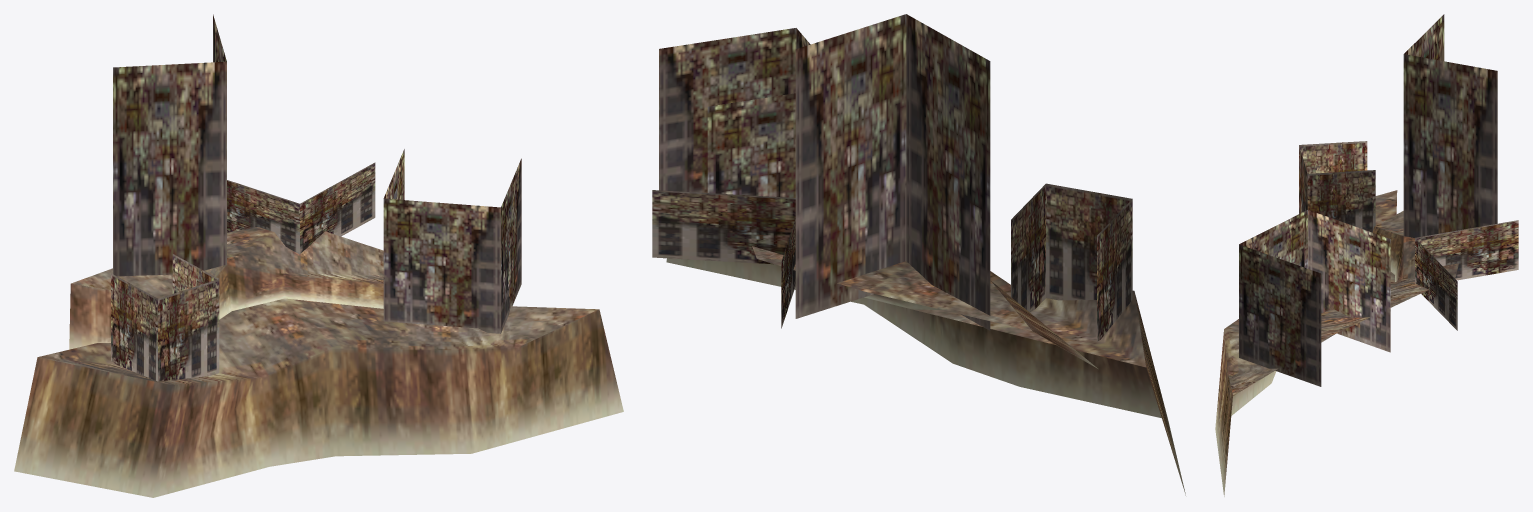
The model's file is garbagebuildings.fbx.
3 renders of one model, left to right at view 1: azimuth 30°, elevation 25°; view 2: azimuth 150°, elevation 25°; view 3: azimuth 270°, elevation 25°, orthographic. The views are drawn at different scales.
Parts seen in each view (by area): view 1: Mesh_0008.rip; view 2: Mesh_0008.rip; view 3: Mesh_0008.rip.
Part boxes in pixels (x1,y1,x2,y2): Mesh_0008.rip: [14, 14, 623, 497]; Mesh_0008.rip: [652, 14, 1185, 495]; Mesh_0008.rip: [1215, 14, 1518, 496].
Bounding box in the file's own units: 4871 × 3137 × 2749.
